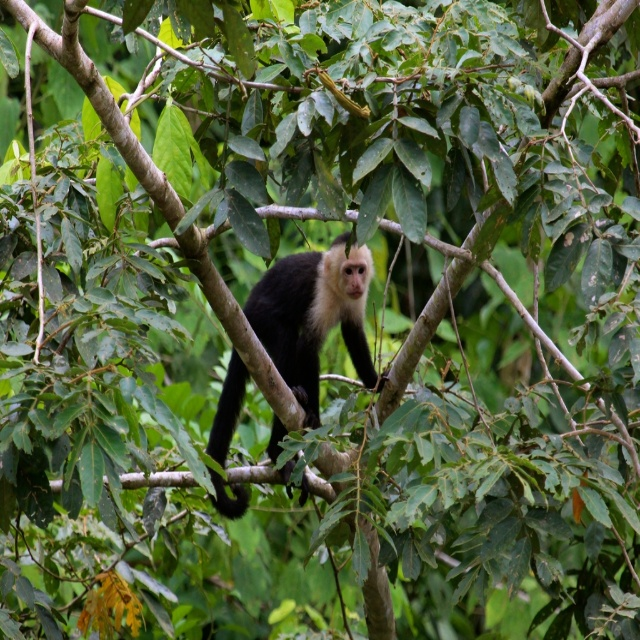Monkey: (204, 230, 392, 523)
